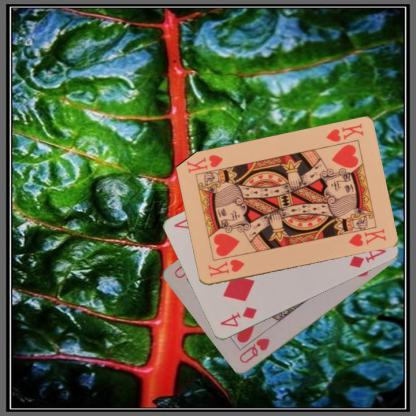4d: (218, 304, 258, 329)
Kh: (323, 121, 365, 144), (205, 256, 246, 278)
Qh: (236, 336, 272, 365)
